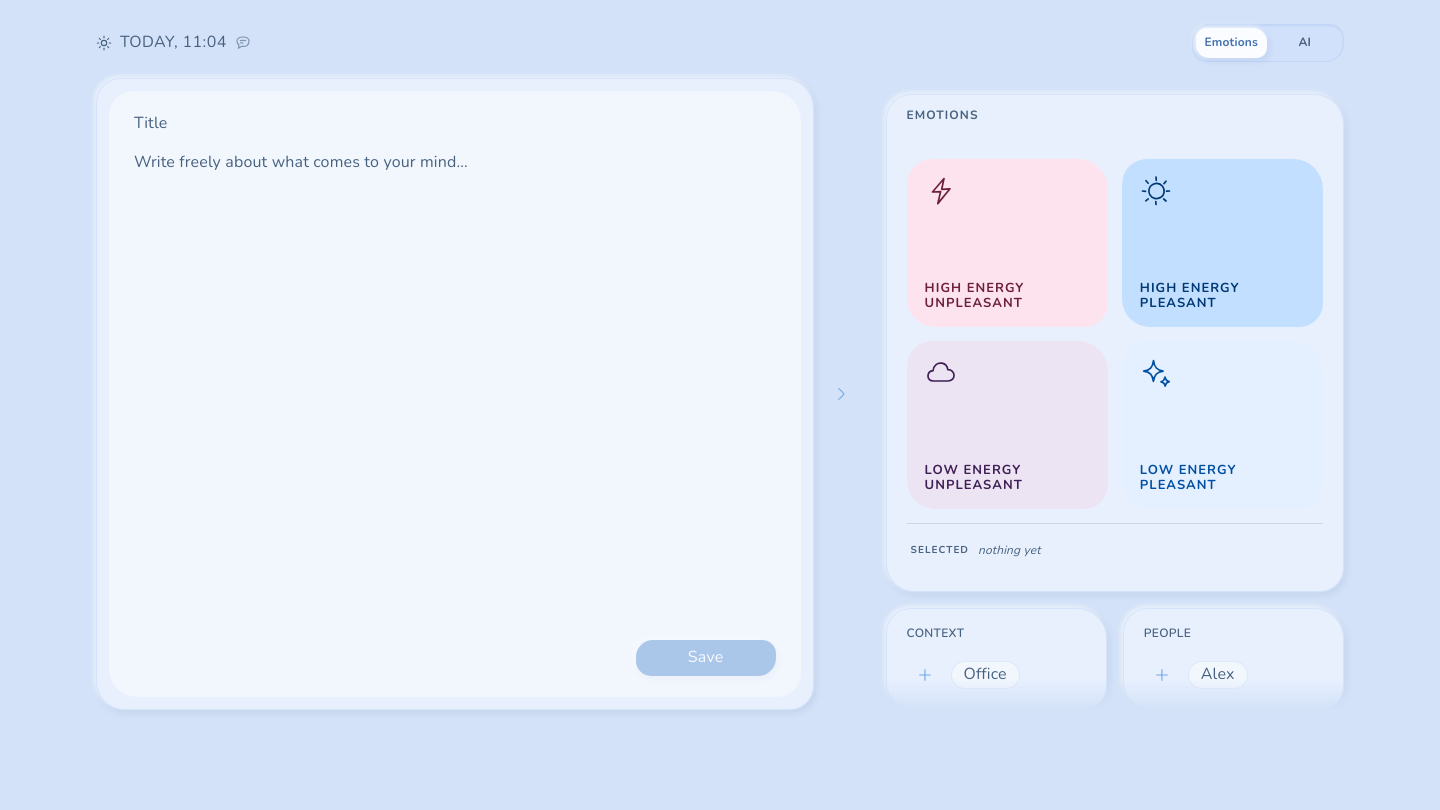
Scenario: JournalEditorView › Chat Button › disables Chat button when body is empty
Click the button "AI" at (1305,43), box [1270,28,1340,58]
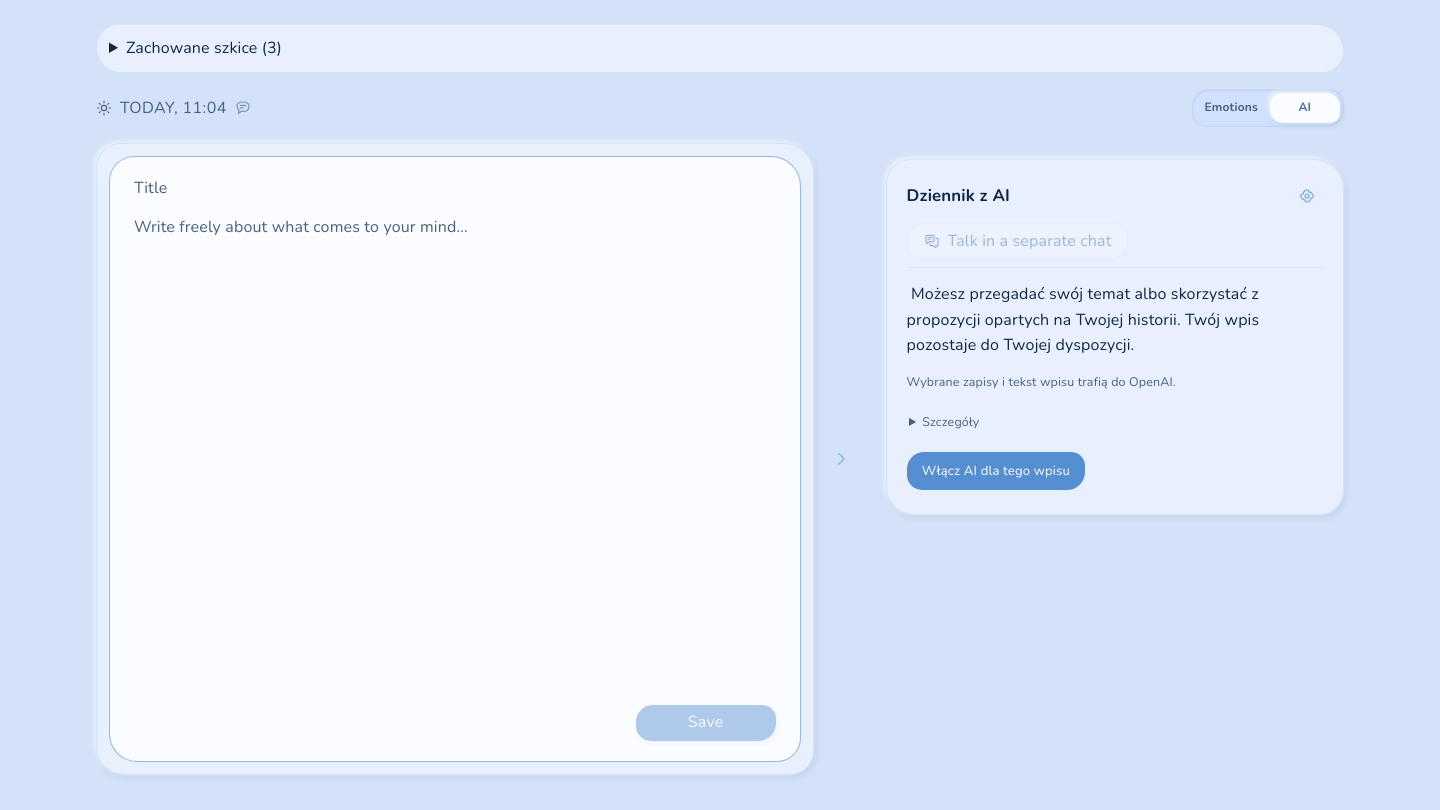
Now the button with aria-label "start chat about this entry" is disabled, box [907,223,1128,259]
